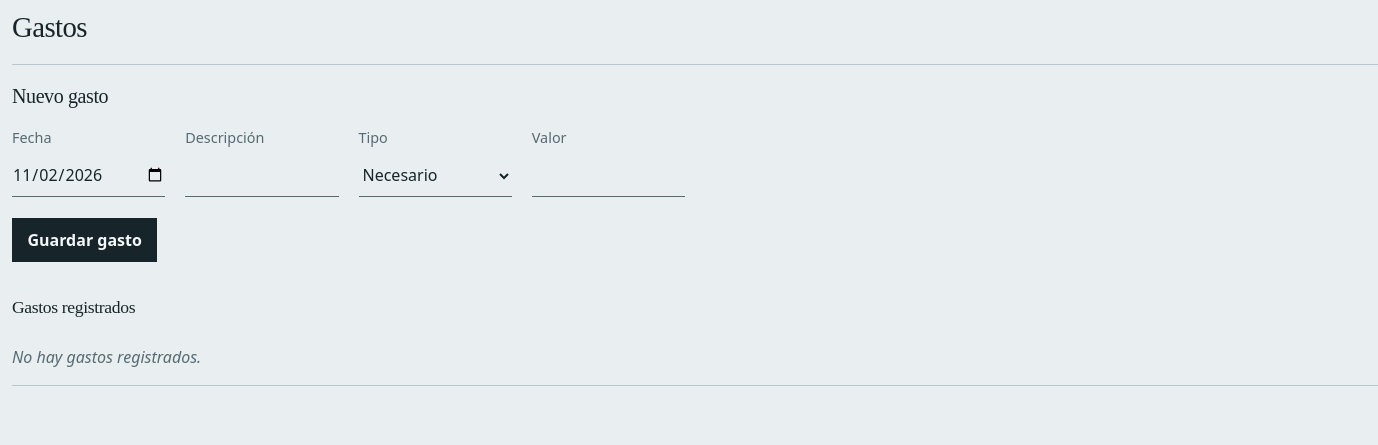
Test: ExpenseSection › shows an error when saving fails
Type "Mercado" into the field labelled "Descripción" at x=262, y=176, box x1=185 y1=155 x2=339 y2=197
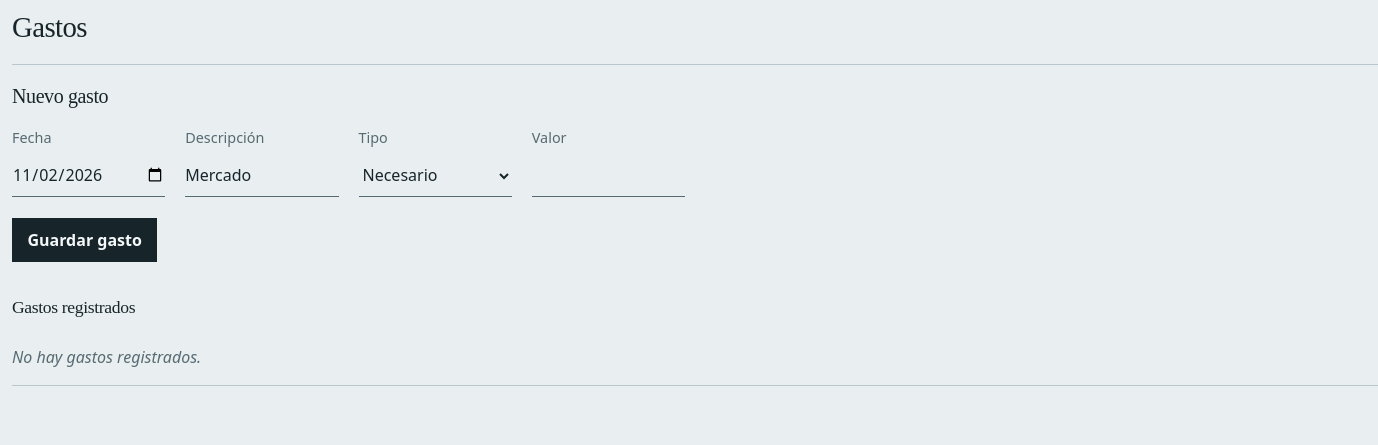
Type "120.50" into the number field labelled "Valor" at x=608, y=176, box x1=532 y1=155 x2=685 y2=197
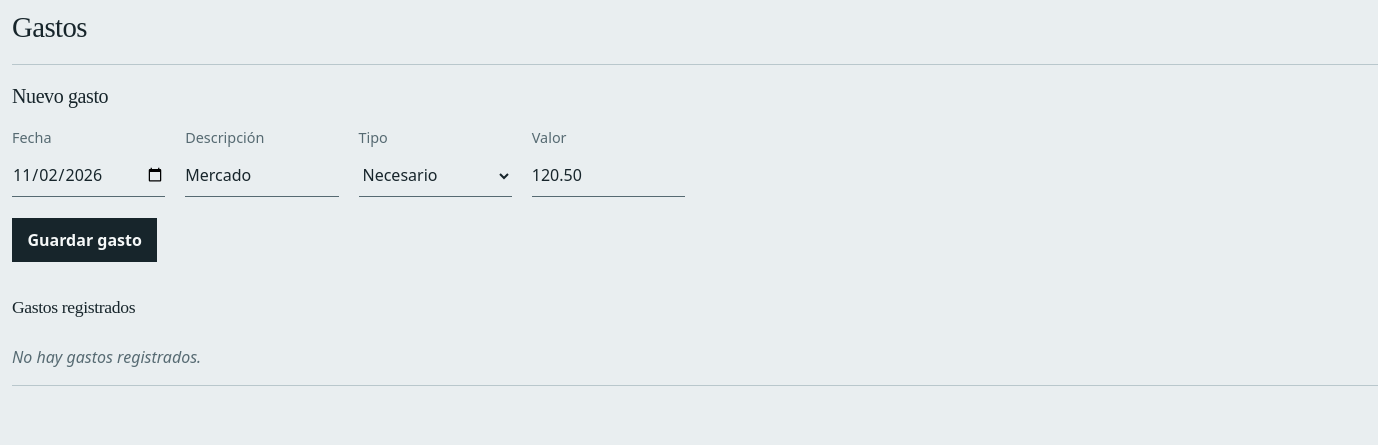
Click the button "Guardar gasto" at x=85, y=240, box x1=12 y1=218 x2=157 y2=262
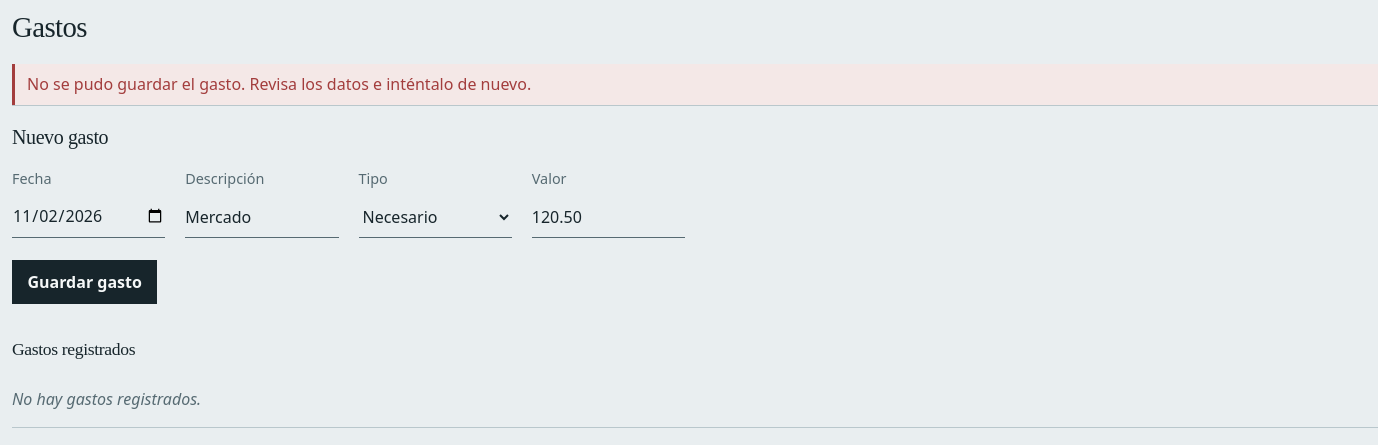
Check: the message shows "No se pudo guardar el gasto.", box x1=27 y1=74 x2=531 y2=96
